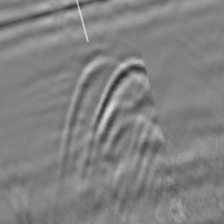Utility: (63, 51, 155, 164)
